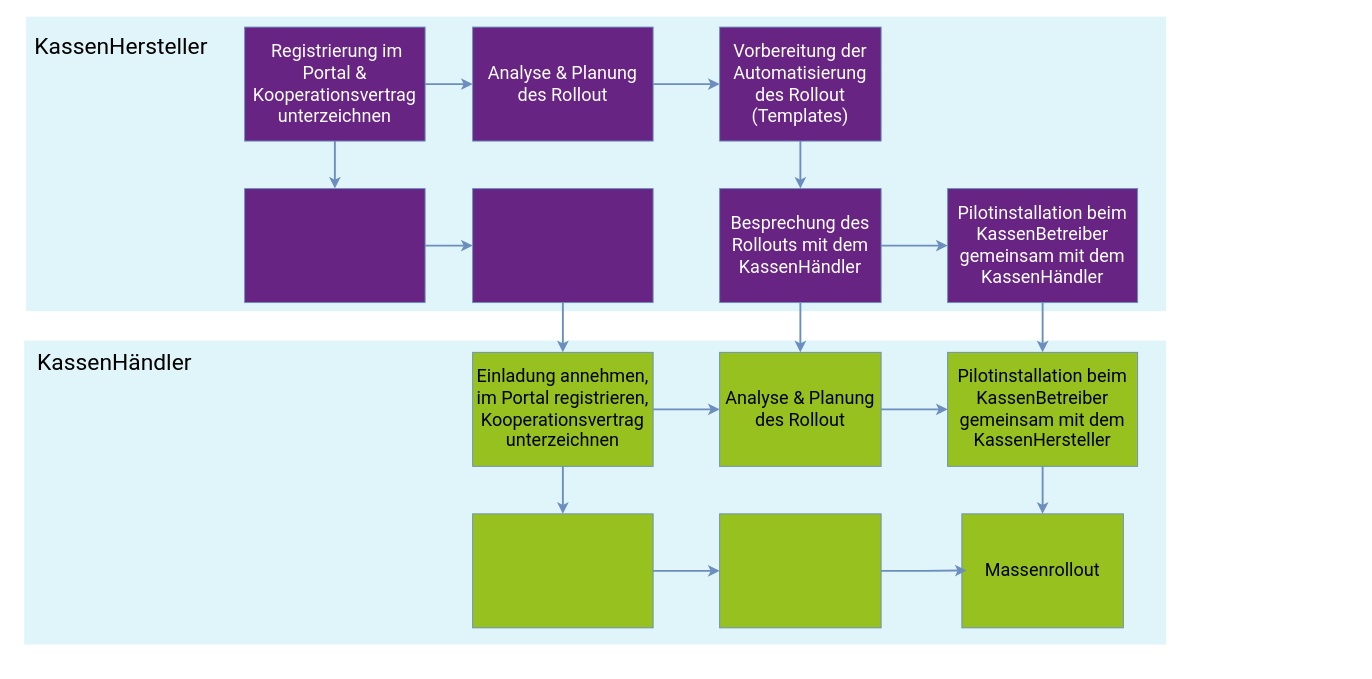
Image size: 1372x679. Some labels were removed from this diagram. Each missing label, with the box of its shape:
fiskaltrust Produkte kaufen und an die KassenBetreiber weiterverkaufen: (719, 513, 881, 628)
Integration der ft.Middleware: (244, 188, 425, 303)
KassenBetreiber über das Portal einladen: (472, 513, 653, 628)
KassenHändler über das Portal einladen: (472, 188, 653, 303)
